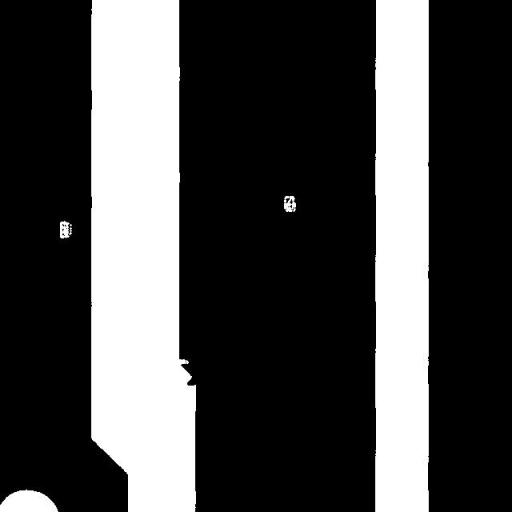mousebite: (169, 350, 196, 373)
pin-hole: (52, 212, 79, 246), (276, 188, 303, 219)
spur: (179, 369, 206, 393)
